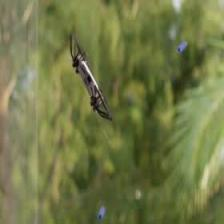drone: (69, 31, 113, 125)
